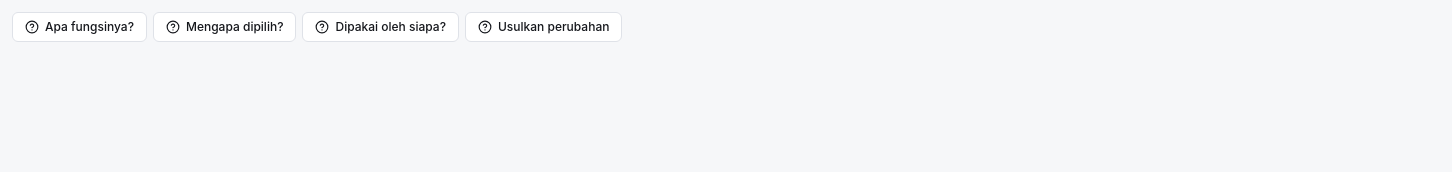
Test: Explain buttons (§35: the six questions open the same source record) › renders only the questions with record-derived content and shows that content
Expected: the button "Apa fungsinya?" is shown, [12,12,147,42]
Expected: the button "Mengapa dipilih?" is shown, [153,12,296,42]
Step 1. Click the button "Dipakai oleh siapa?" → click(381, 27), box [302,12,459,42]
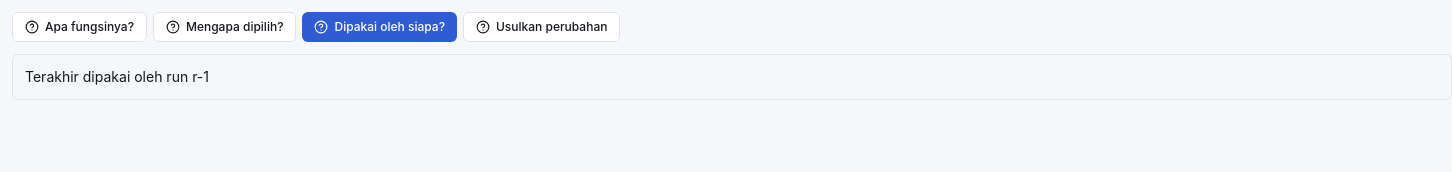
Expected: the text "Terakhir dipakai oleh run r-1" is shown, [12,54,1451,100]
Step 2. Click the button "Mengapa dipilih?" → click(225, 27), box [153,12,296,42]
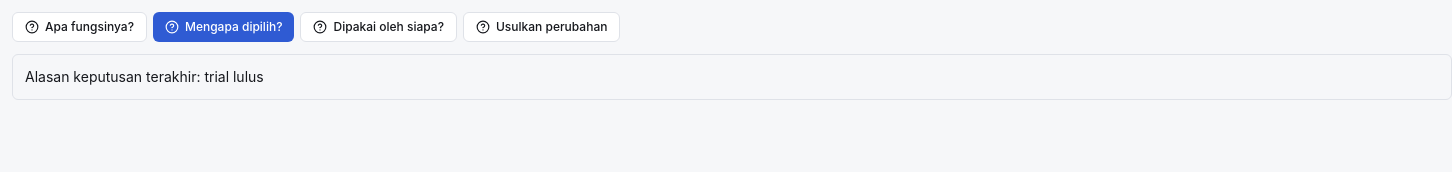
Expected: the text "Alasan keputusan terakhir: trial lulus" is shown, [12,54,1451,100]
